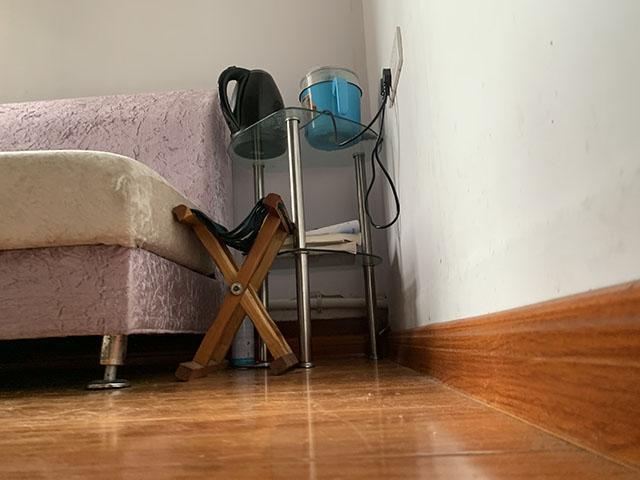sofa: (1, 88, 235, 391)
stool: (171, 192, 300, 382)
table: (226, 105, 386, 372)
